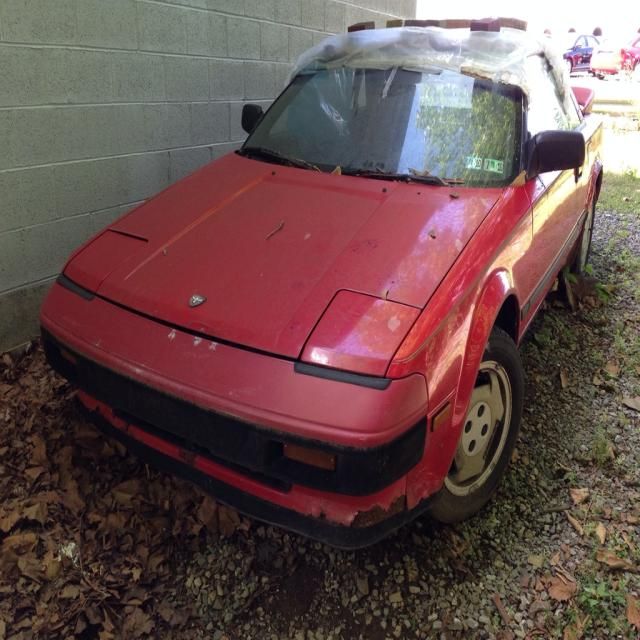car: (33, 16, 606, 535)
